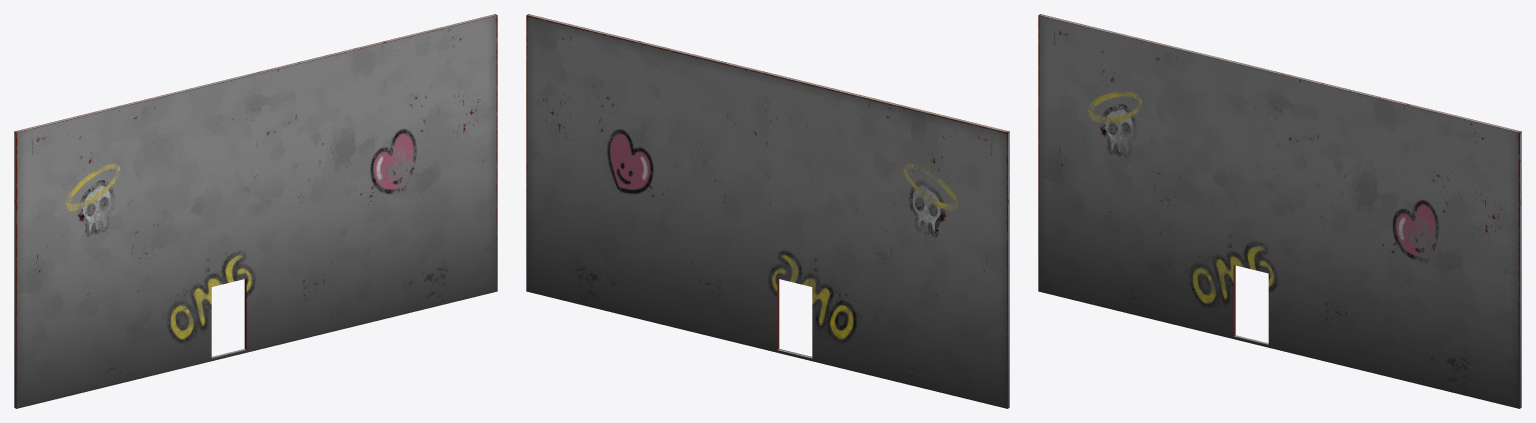
Rendered from Factory_Wall_1.fbx.
3 renders of one model, left to right at view 1: azimuth 30°, elevation 25°; view 2: azimuth 150°, elevation 25°; view 3: azimuth 330°, elevation 25°, orthographic.
Visible parts, largest first — view 1: Plane.023; view 2: Plane.023; view 3: Plane.023.
Boxes of the visible parts, x1,y1,x2,y2 form: Plane.023: (14, 14, 497, 408); Plane.023: (526, 14, 1009, 408); Plane.023: (1038, 14, 1521, 408).
Size of the model in its own units: 1819 by 997 by 12.01.
Materials: 1 (1 with a texture image).
